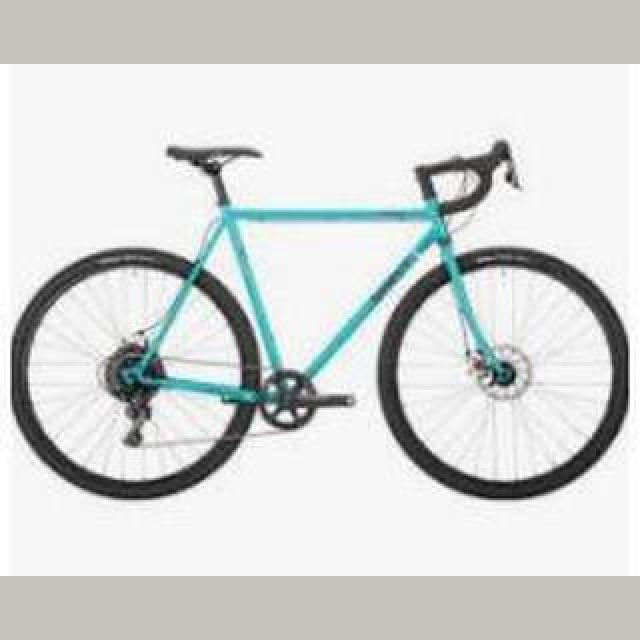Person: (3, 132, 637, 502)
